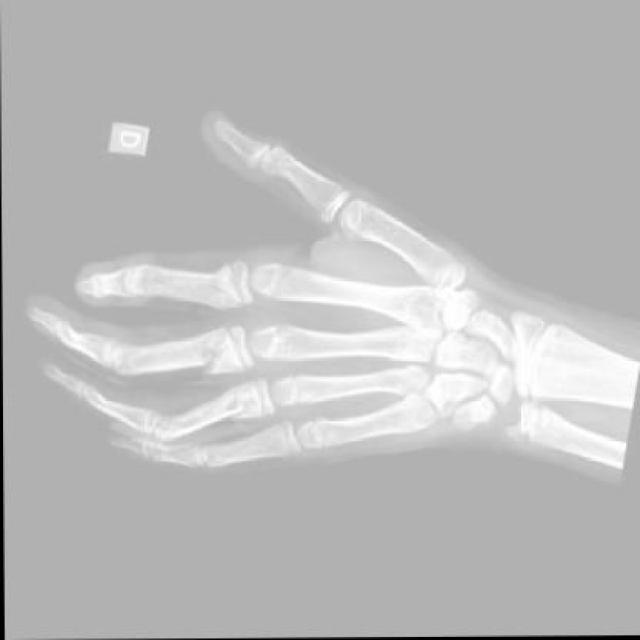bone: (197, 271, 242, 313), (189, 329, 234, 371), (215, 381, 248, 418)
